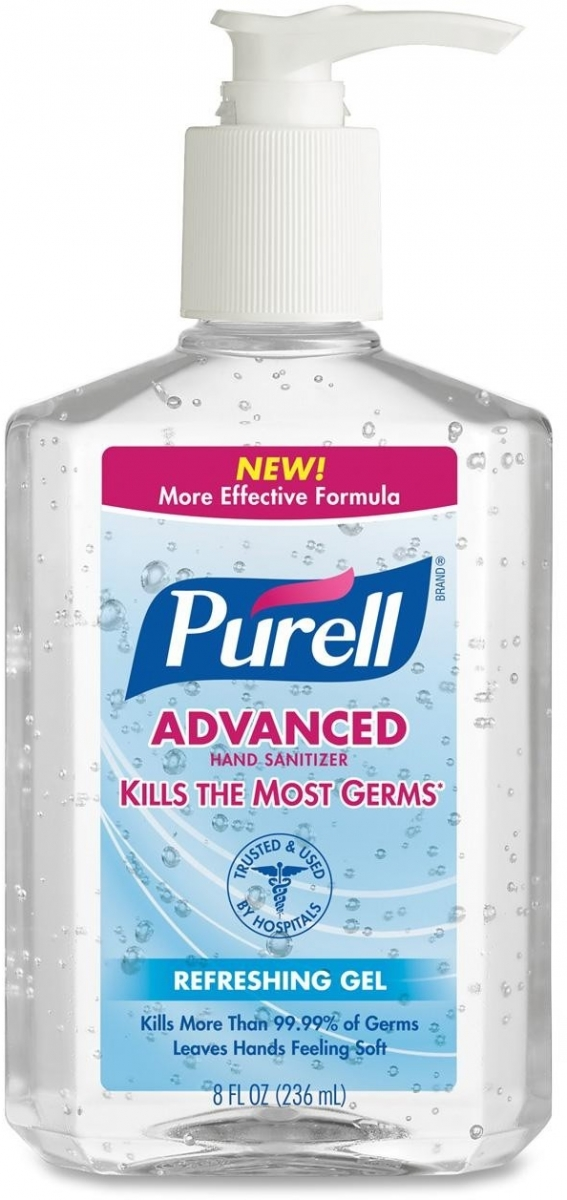Sanitizer: (7, 8, 567, 1184)
